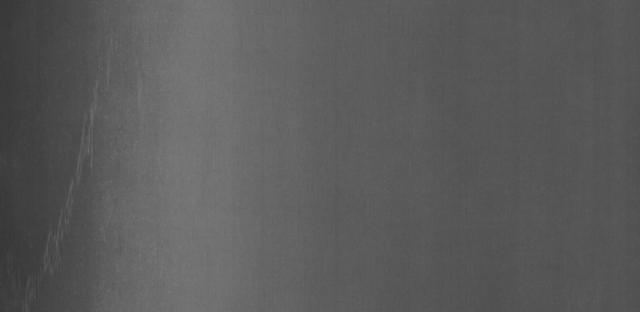silk_spot: (33, 83, 137, 260)
